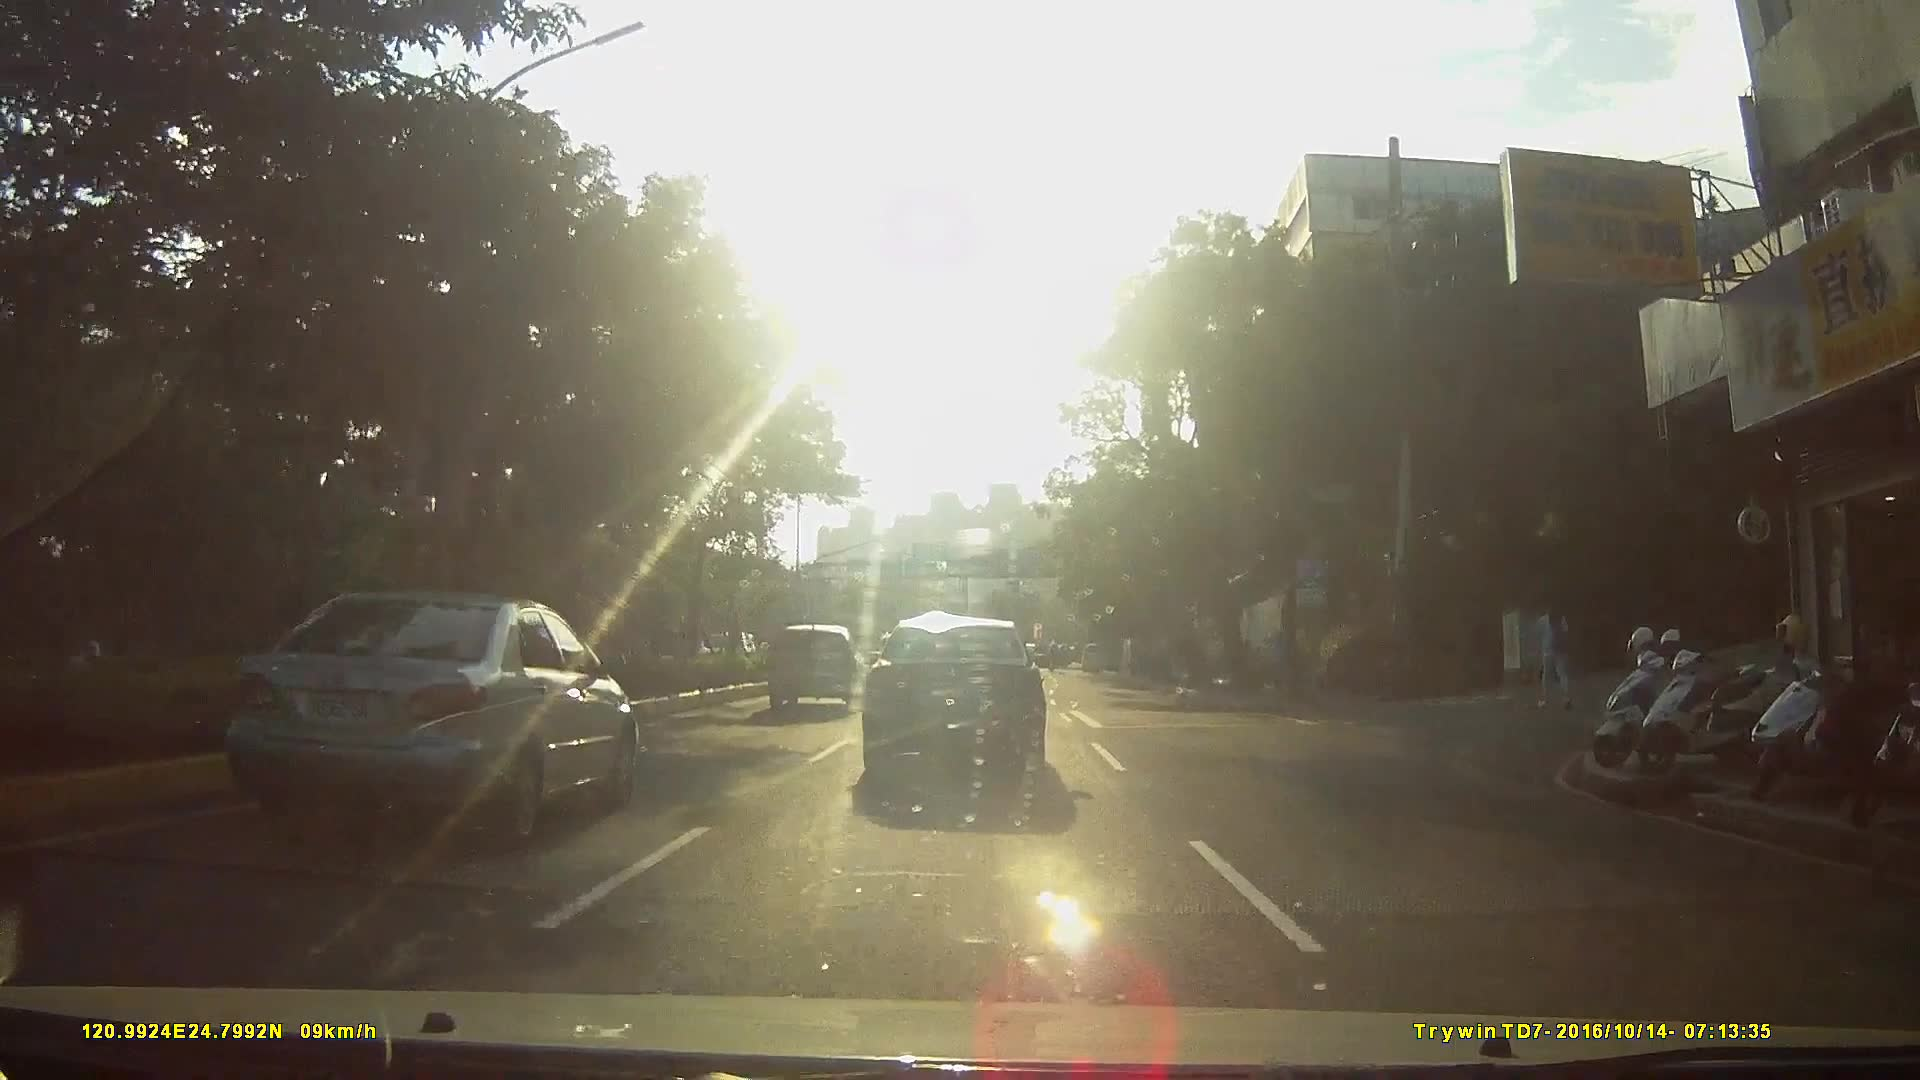pedestrian: (1539, 590, 1588, 703)
vehicle: (213, 587, 646, 847), (865, 613, 1067, 787), (766, 623, 871, 712), (1078, 640, 1111, 673)
